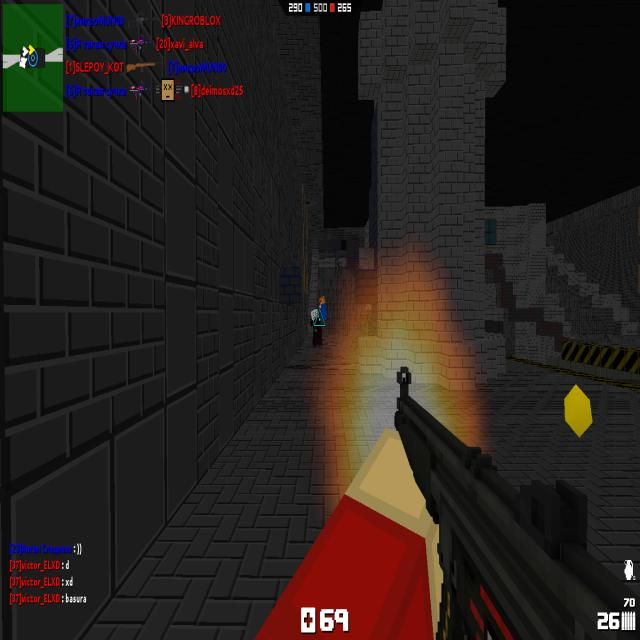enemy: (310, 306, 323, 349), (320, 295, 328, 322), (334, 257, 340, 270)
